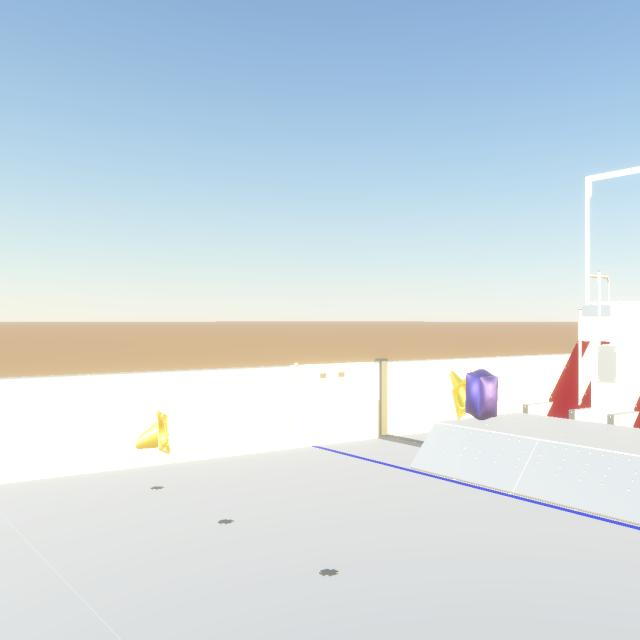frc_cone: (136, 411, 170, 454), (450, 371, 466, 419)
frc_cube: (465, 369, 498, 420)
